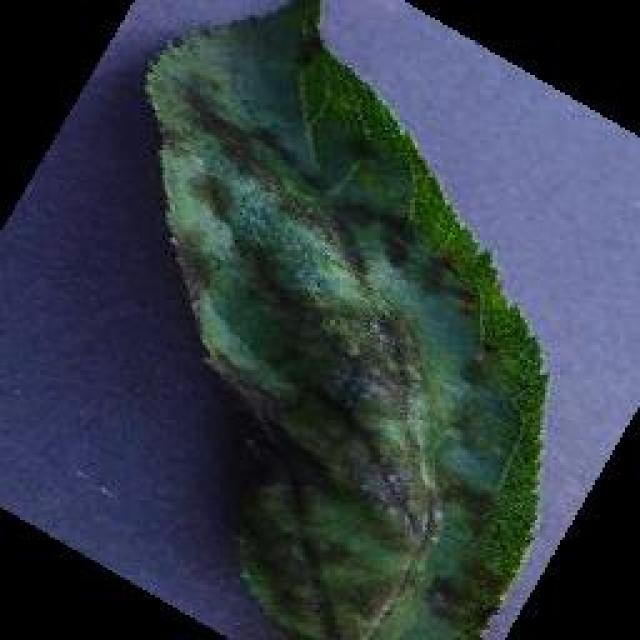apple scab disease: (140, 0, 550, 638)
